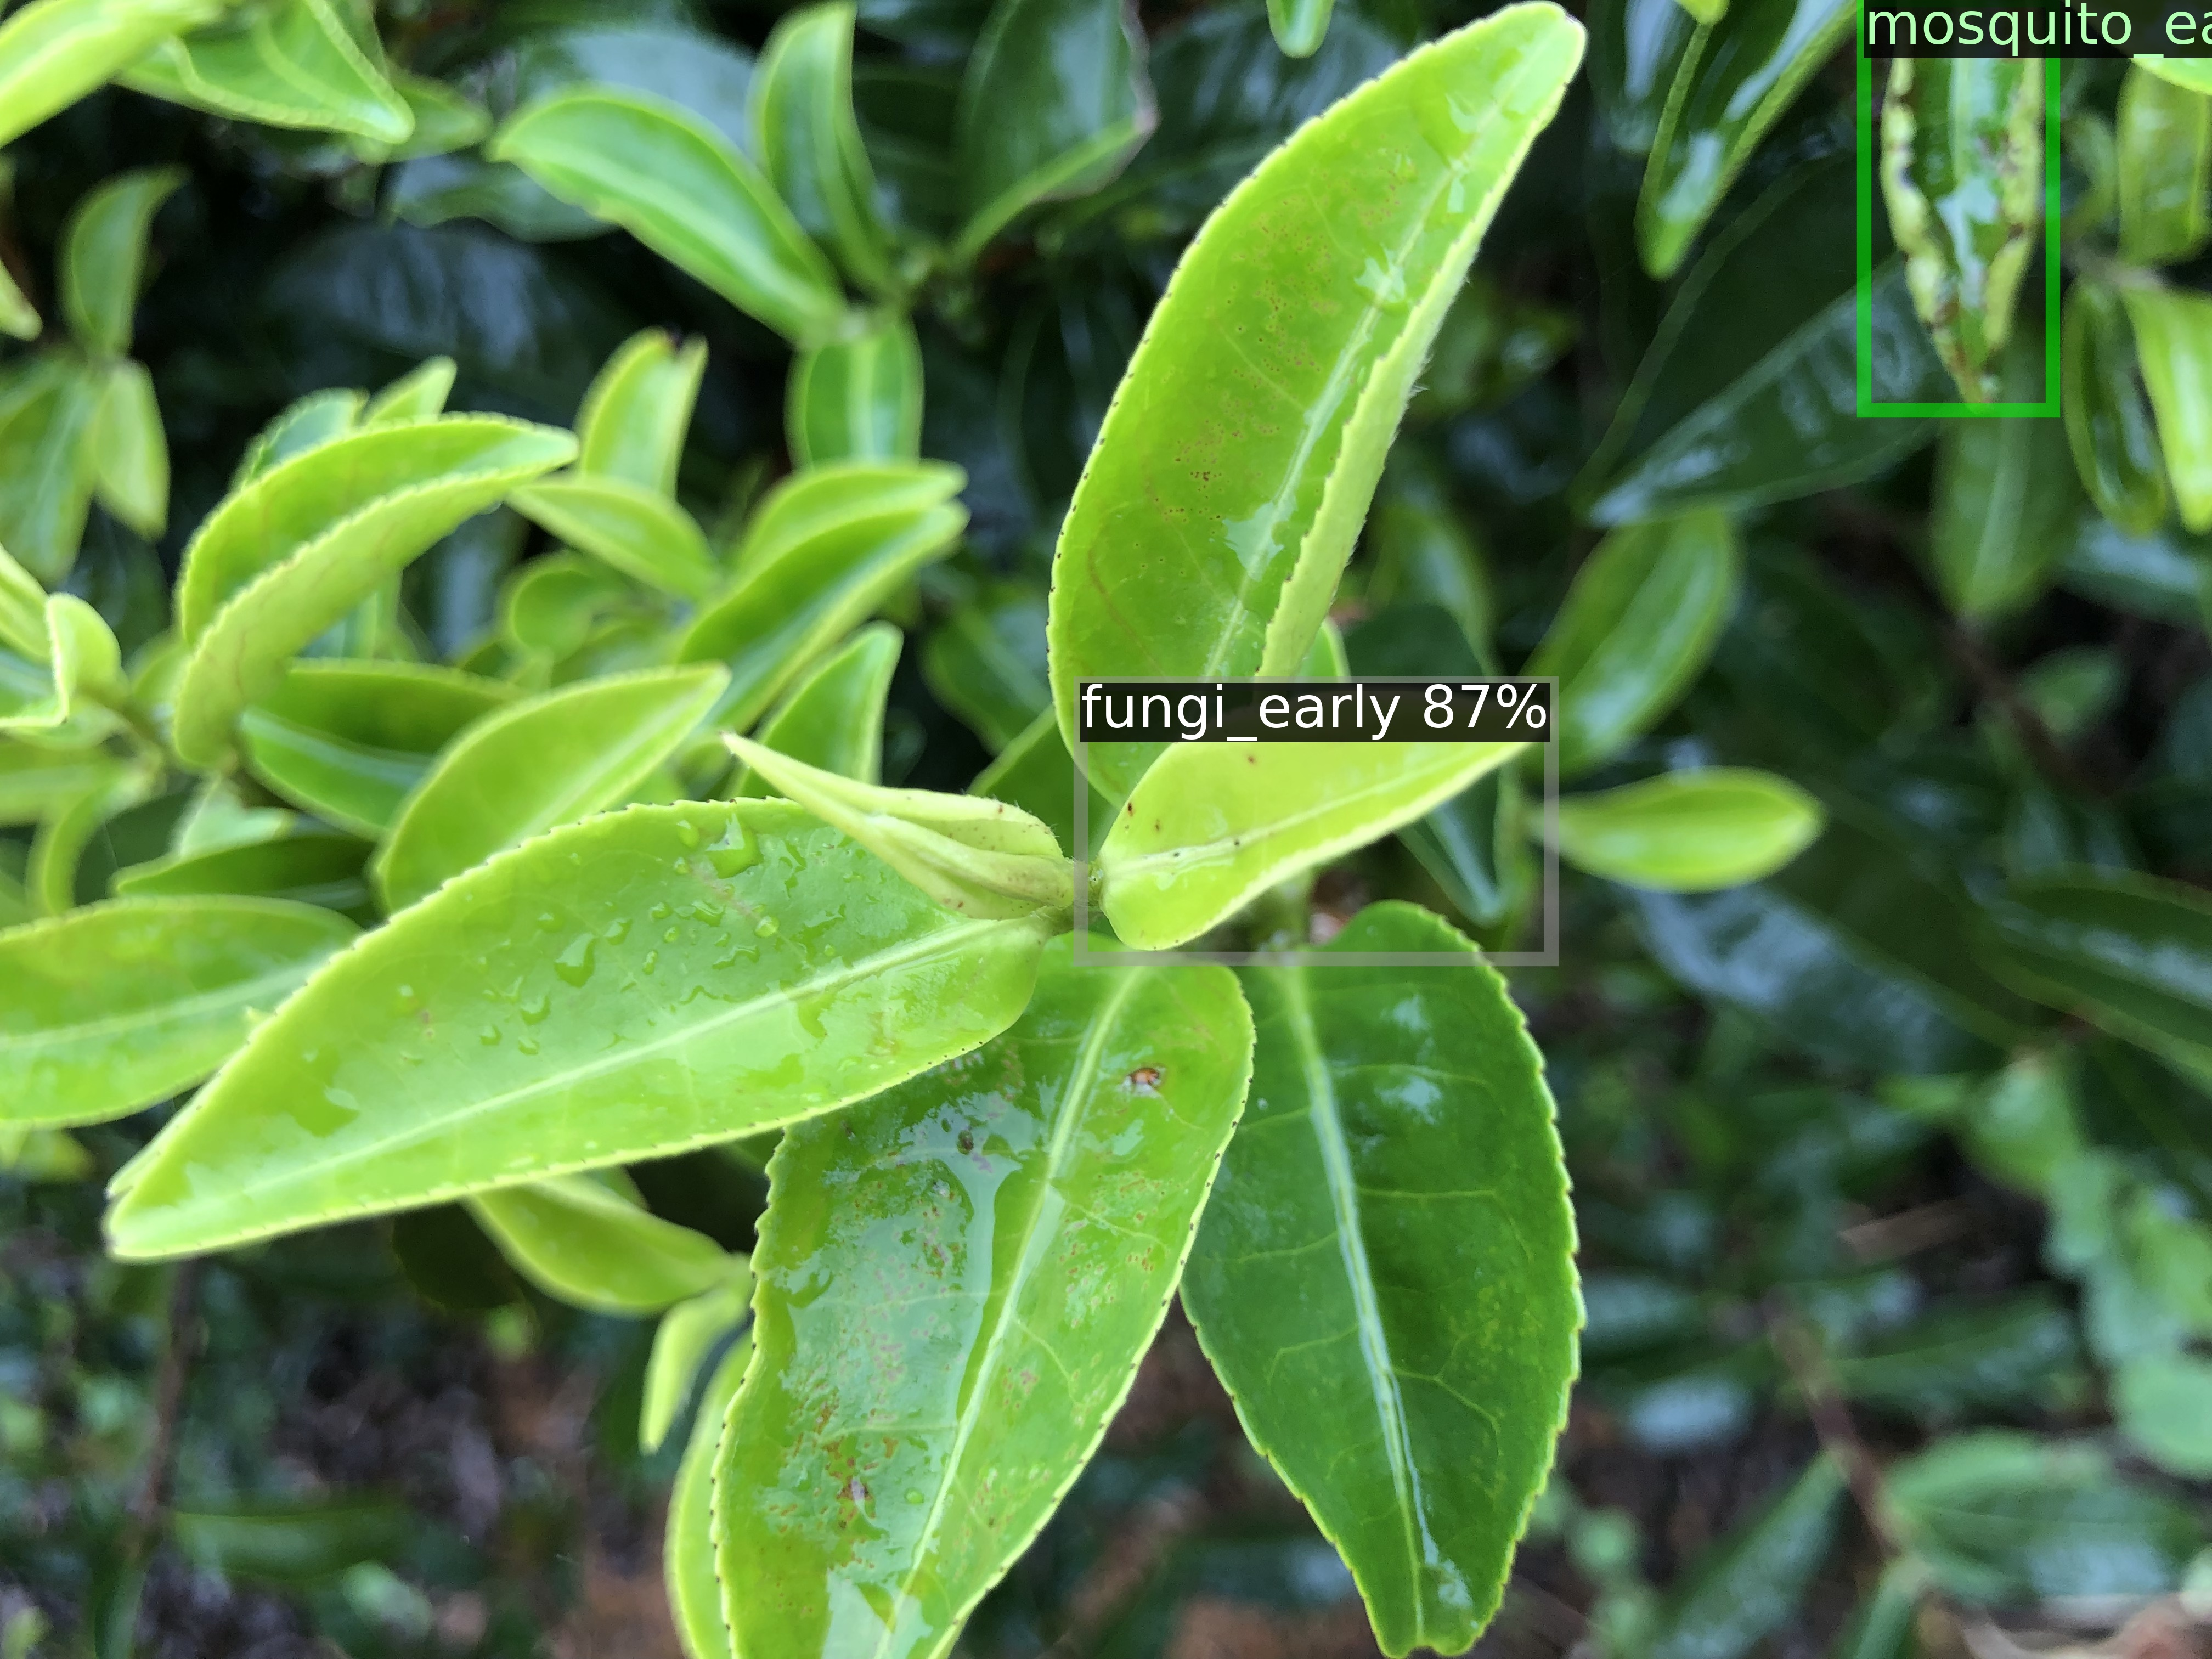fungi_early: (1080, 683, 1550, 958)
mosquito_early: (1864, 0, 2052, 410)
